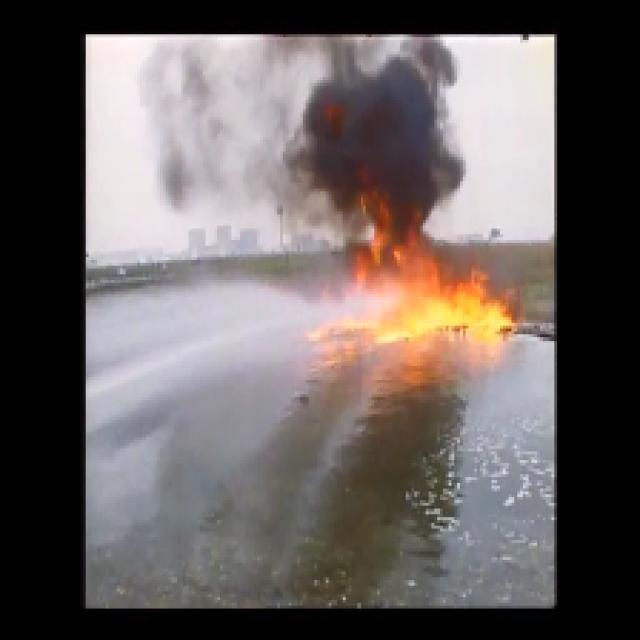Fire: (373, 239, 505, 324)
Smoke: (316, 72, 432, 196)
